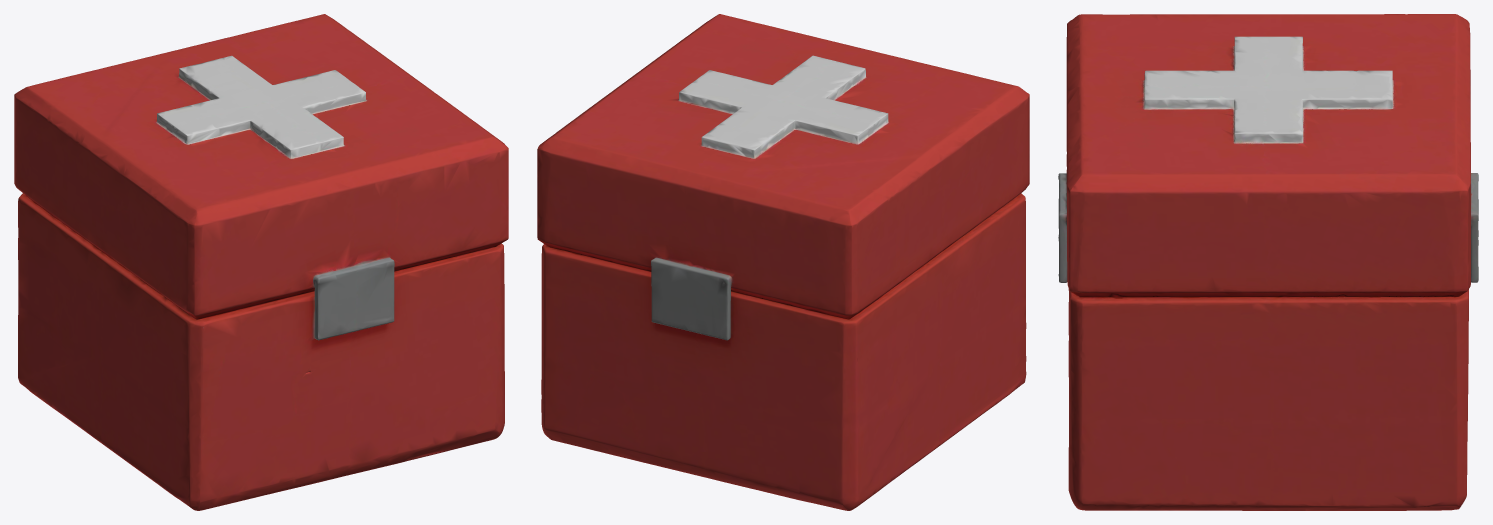
File: health_pack.glb
3 renders of one model, left to right at view 1: azimuth 30°, elevation 25°; view 2: azimuth 150°, elevation 25°; view 3: azimuth 270°, elevation 25°, orthographic. The views are drawn at different scales.
Visible parts, largest first — view 1: geometry_0; view 2: geometry_0; view 3: geometry_0.
Part boxes in pixels (box(x1,y1,x2,y2)): geometry_0: box(14, 14, 508, 510); geometry_0: box(537, 14, 1029, 510); geometry_0: box(1058, 14, 1478, 510).
Bounding box in the file's own units: 0.5849 × 0.5439 × 0.6.
Materials: 1 (1 with a texture image).
